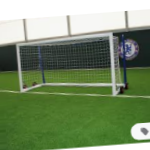goals: (15, 29, 125, 99)
